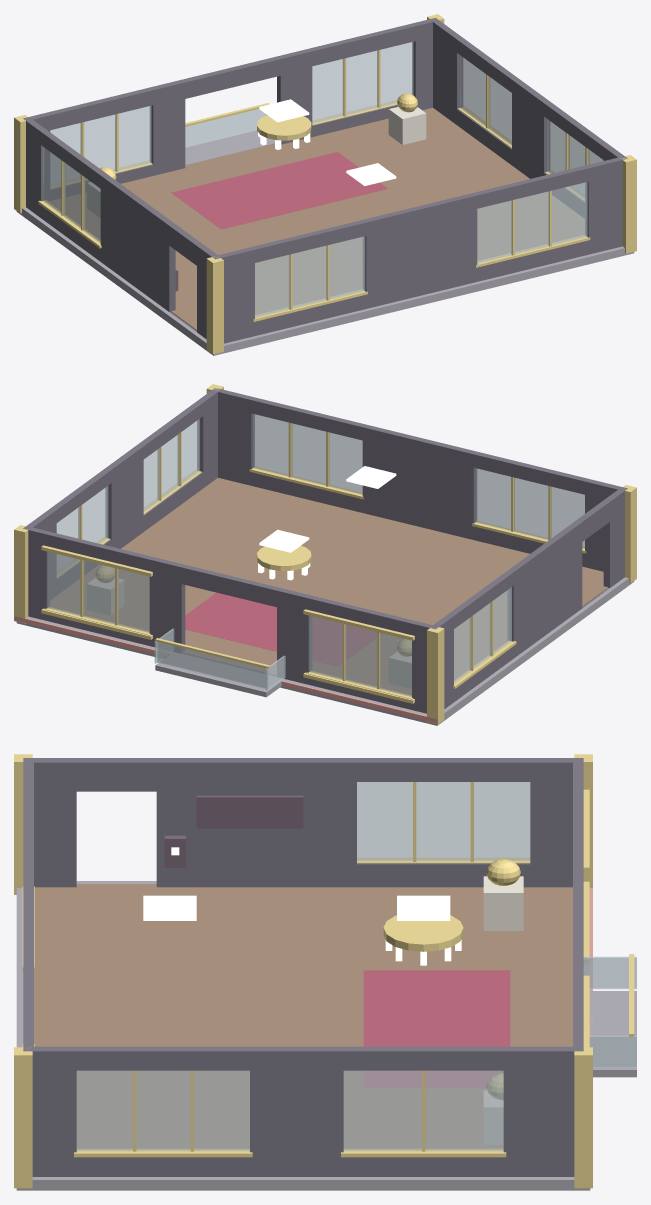
File: Floor04.glb
3 renders of one model, top to bottom at view 1: azimuth 30°, elevation 25°; view 2: azimuth 150°, elevation 25°; view 3: azimuth 270°, elevation 25°, orthographic. The views are drawn at different scales.
Parts seen in each view (by area): view 1: Floor04_1, Floor04_3, Floor04_7, Floor04_9, Floor04_5, Floor04_4, Floor04_12, Floor04_6, Floor04_11; view 2: Floor04_1, Floor04_3, Floor04_7, Floor04_9, Floor04_4, Floor04_5, Floor04_6, Floor04_12, Floor04_8, Floor04_11; view 3: Floor04_1, Floor04_3, Floor04_7, Floor04_9, Floor04_5, Floor04_4, Floor04_0, Floor04_6, Floor04_12, Floor04_11.
Boxes of the visible parts, bbox=[...] form: Floor04_1: bbox=[23, 18, 627, 343]; Floor04_3: bbox=[50, 108, 584, 330]; Floor04_7: bbox=[42, 42, 603, 317]; Floor04_9: bbox=[14, 14, 636, 354]; Floor04_5: bbox=[171, 152, 387, 229]; Floor04_4: bbox=[16, 130, 634, 355]; Floor04_12: bbox=[87, 107, 426, 217]; Floor04_6: bbox=[185, 109, 267, 147]; Floor04_11: bbox=[259, 99, 396, 185]; Floor04_1: bbox=[23, 388, 627, 713]; Floor04_3: bbox=[50, 478, 608, 694]; Floor04_7: bbox=[47, 414, 584, 696]; Floor04_9: bbox=[14, 384, 636, 724]; Floor04_4: bbox=[16, 577, 634, 725]; Floor04_5: bbox=[185, 592, 381, 666]; Floor04_6: bbox=[154, 628, 285, 690]; Floor04_12: bbox=[87, 578, 411, 688]; Floor04_8: bbox=[14, 616, 437, 723]; Floor04_11: bbox=[259, 466, 396, 552]; Floor04_1: bbox=[23, 758, 583, 1176]; Floor04_3: bbox=[34, 884, 572, 1147]; Floor04_7: bbox=[76, 782, 530, 1151]; Floor04_9: bbox=[14, 754, 634, 1188]; Floor04_5: bbox=[363, 970, 510, 1088]; Floor04_4: bbox=[16, 881, 636, 1190]; Floor04_0: bbox=[164, 795, 303, 867]; Floor04_6: bbox=[583, 956, 636, 1067]; Floor04_12: bbox=[483, 876, 523, 1144]; Floor04_11: bbox=[143, 895, 450, 920].
Bounding box in the file's own units: 53.4 × 11.3 × 46.7.
